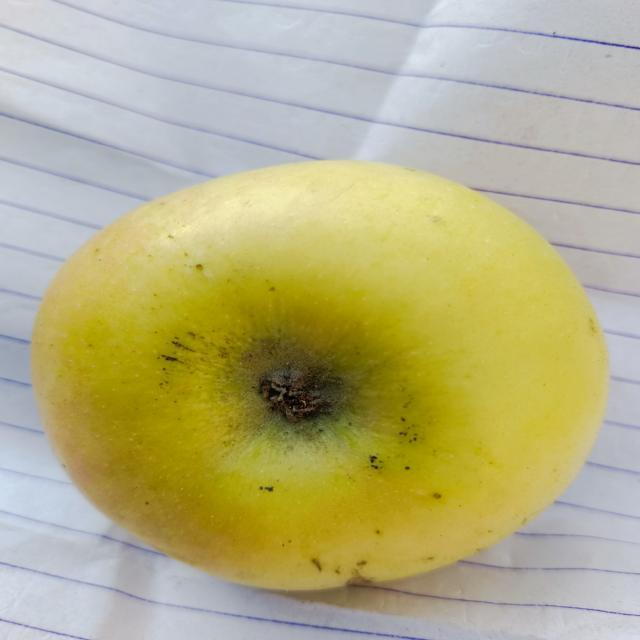Fresh Apple: (27, 153, 612, 599)
